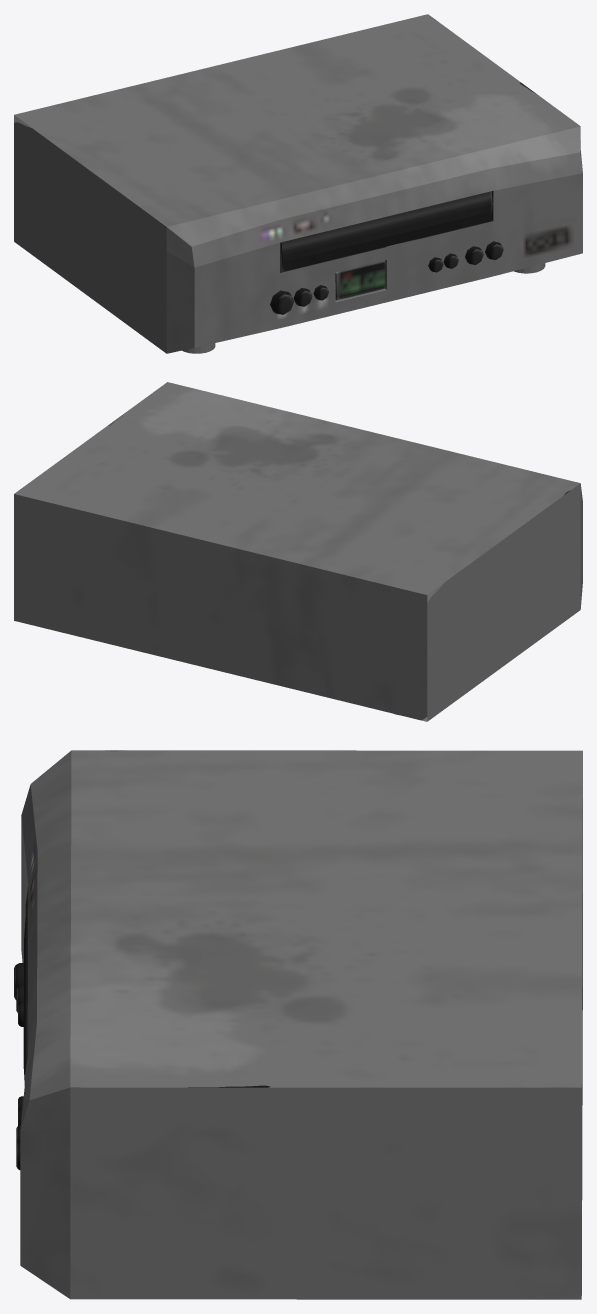
The model's file is Prop_VhsPlayer_model.fbx.
3 renders of one model, top to bottom at view 1: azimuth 30°, elevation 25°; view 2: azimuth 150°, elevation 25°; view 3: azimuth 270°, elevation 25°, orthographic. The views are drawn at different scales.
Parts seen in each view (by area): view 1: Prop_VhsPlayer; view 2: Prop_VhsPlayer; view 3: Prop_VhsPlayer.
Boxes of the visible parts, x1,y1,x2,y2 form: Prop_VhsPlayer: (14, 14, 582, 353); Prop_VhsPlayer: (14, 382, 582, 721); Prop_VhsPlayer: (14, 750, 582, 1299).
Bounding box in the file's own units: 29.36 × 9.33 × 20.92.
